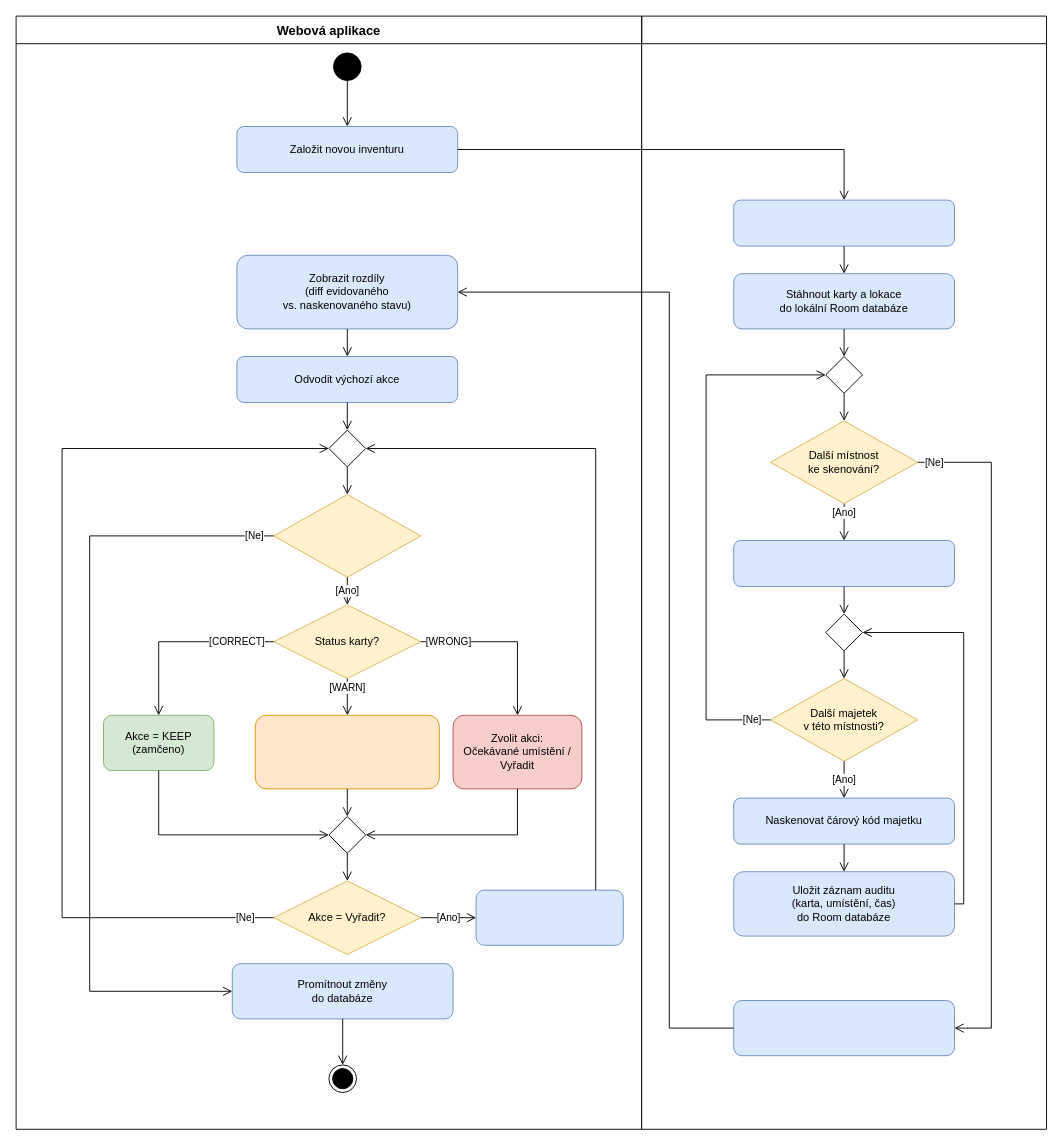
This 1063x1145 diagram has some shape labels left out. The box of each missing label's shape, as (x1, y1, x2, y2) in pixels:
Další karta ke zpracování?: (273, 494, 421, 577)
Mobilní aplikace: (641, 15, 1046, 1129)
Nahrát inventurní data na server (POST): (733, 1000, 954, 1056)
Naskenovat čárový kód umístění: (733, 540, 954, 586)
Přihlásit se k serveru: (733, 199, 954, 246)
Vyplnit datum a způsob vyřazení: (475, 889, 623, 945)
Zvolit akci: Skutečné umístění / Očekávané umístění / Vyřadit: (254, 714, 439, 789)
